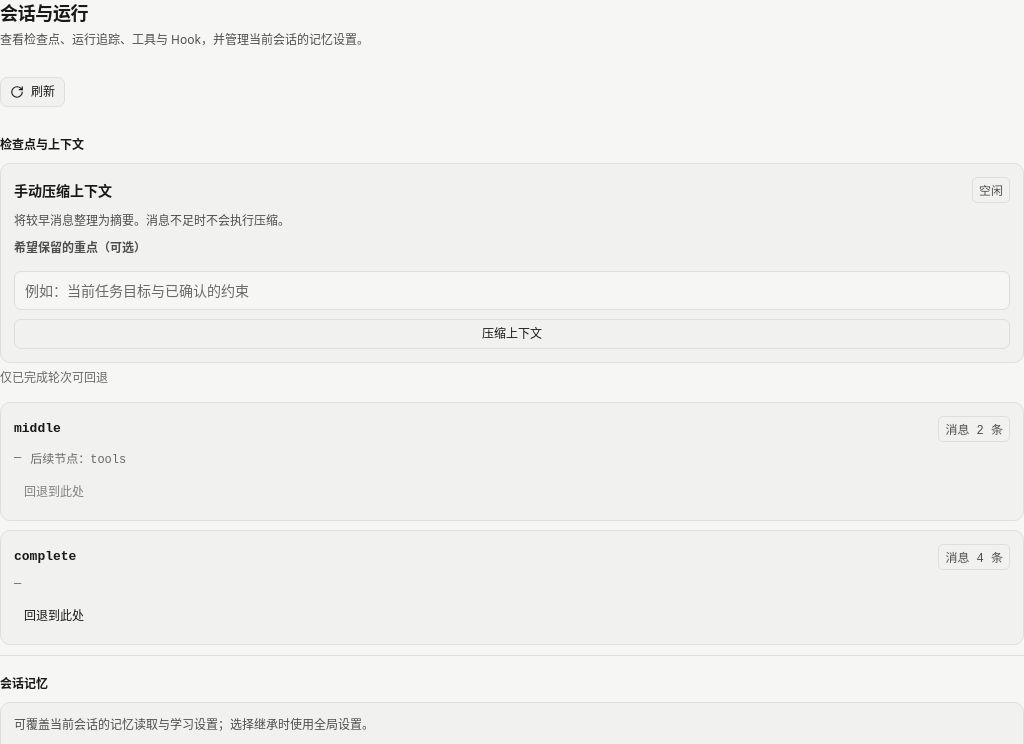
Test case: 面板打开后线程开始运行，点击回退时重新检查并阻止请求
The width and height of the screenshot is (1024, 744).
What coordinates should you click on to do the following:
click the button "回退到此处" below "complete"
I would click on:
 (54, 616)
Its box is [14,601,94,631].
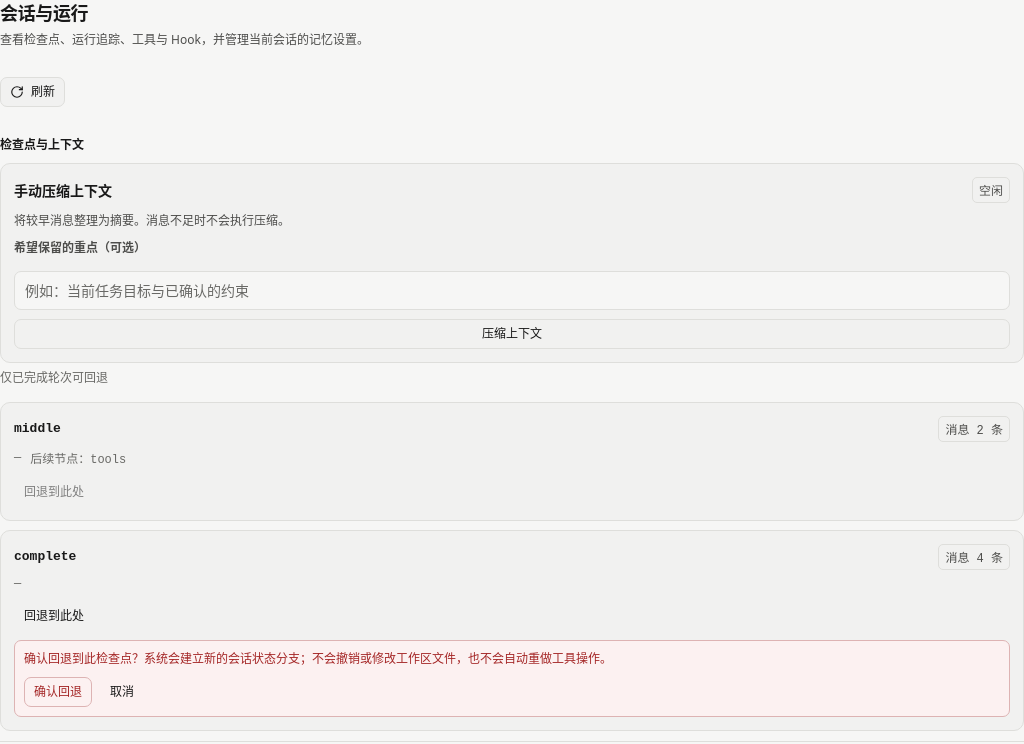
Check: the button "确认回退" is shown
What coordinates should you click on to do the following:
click the button "确认回退"
I would click on:
 (58, 692)
Its box is [24,677,92,707].
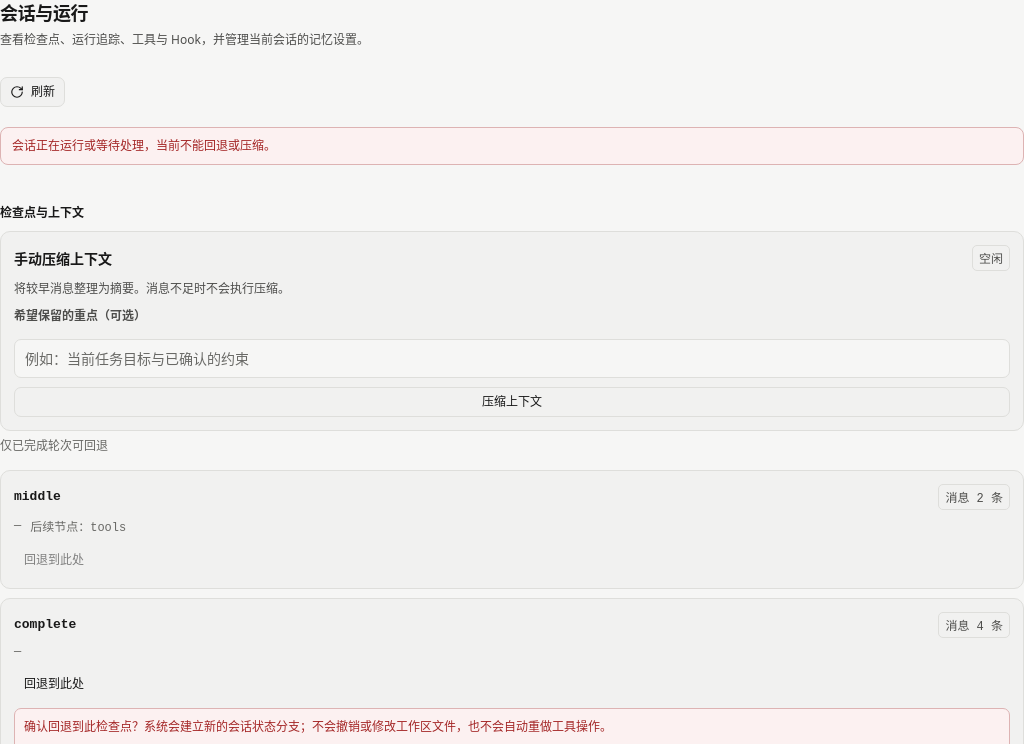
Check: the message "会话正在运行或等待处理，当前不能回退或压缩。" is shown, box [0,127,1023,165]
